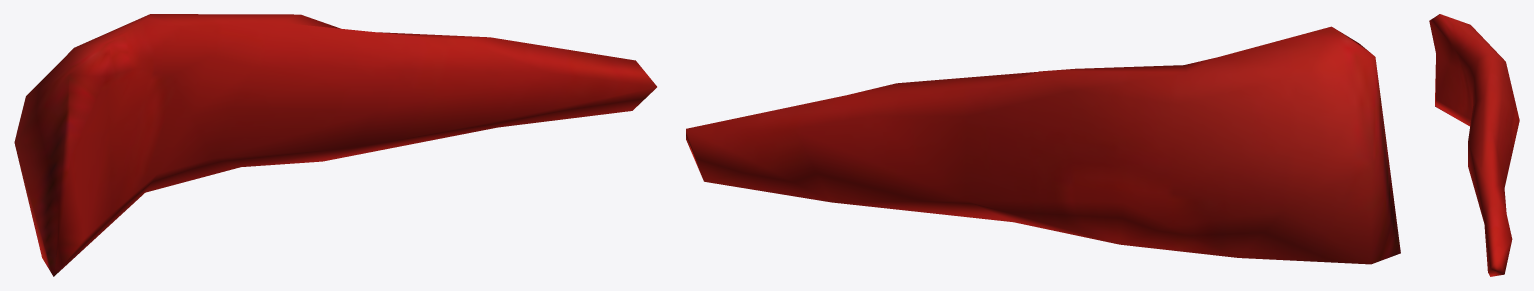
Rendered from Orbital_Muscle_02.glb.
3 renders of one model, left to right at view 1: azimuth 30°, elevation 25°; view 2: azimuth 150°, elevation 25°; view 3: azimuth 270°, elevation 25°, orthographic. The views are drawn at different scales.
Visible parts, largest first — view 1: Orbital_Mucle_02; view 2: Orbital_Mucle_02; view 3: Orbital_Mucle_02.
Boxes of the visible parts, <box> form: Orbital_Mucle_02: <box>14,14,656,276</box>; Orbital_Mucle_02: <box>686,26,1400,264</box>; Orbital_Mucle_02: <box>1429,14,1519,276</box>.
Bounding box in the file's own units: 0.065 × 0.0229 × 0.0153.
Materials: 1 (1 with a texture image).
